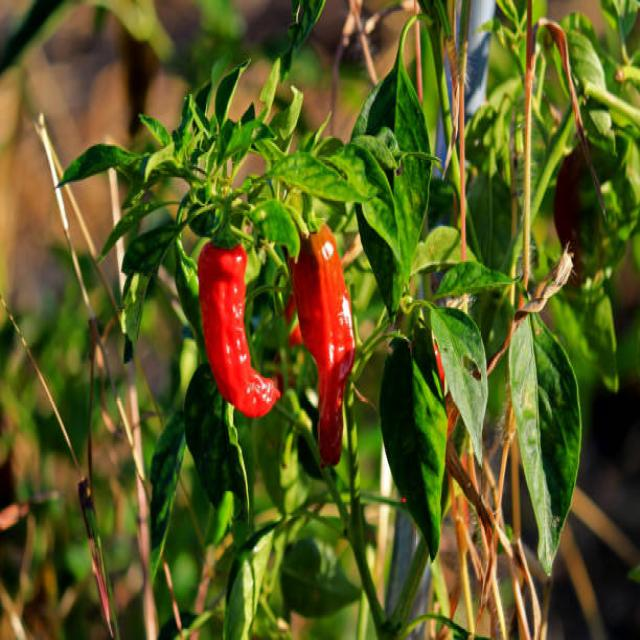Ripe: (294, 226, 355, 464), (199, 243, 280, 416)
